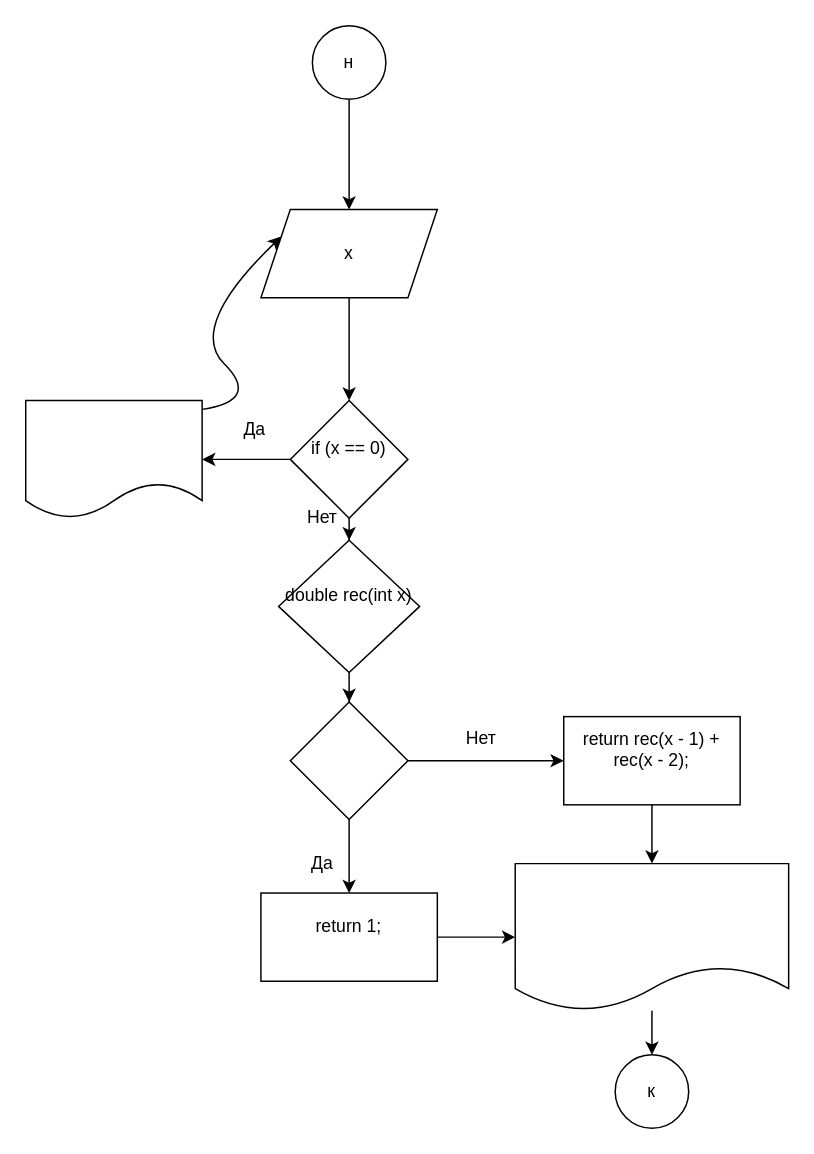
Some shapes in this 814 by 1154 pixel diagram are drawn without their labels. Here are the shapes that lost their labels. From the top down, the box of each, then its label:
(24, 399, 202, 518): Счёт элементов начинается с 1!
(289, 700, 408, 820): if ( x == 1 || x == 2 )
(514, 862, 789, 1011): Console . WriteLine ( $" Значение элемента под номером { x } = { rec ( x )} " );
